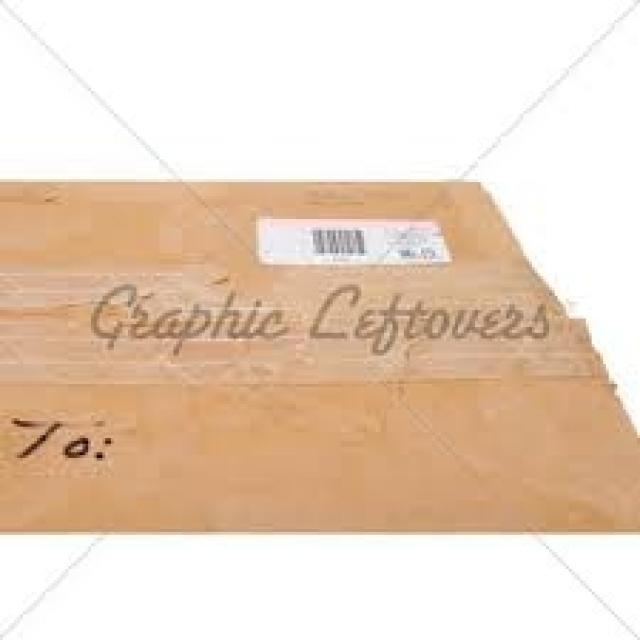cardboard paper: (0, 181, 638, 529)
